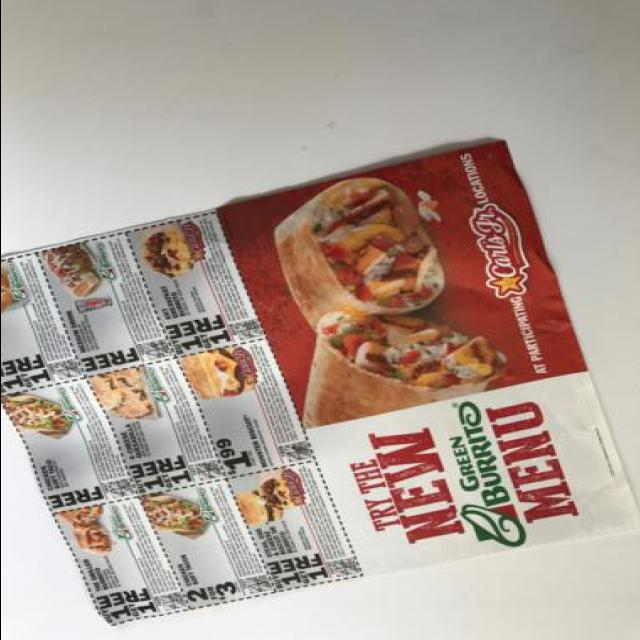kertas: (0, 138, 640, 630)
